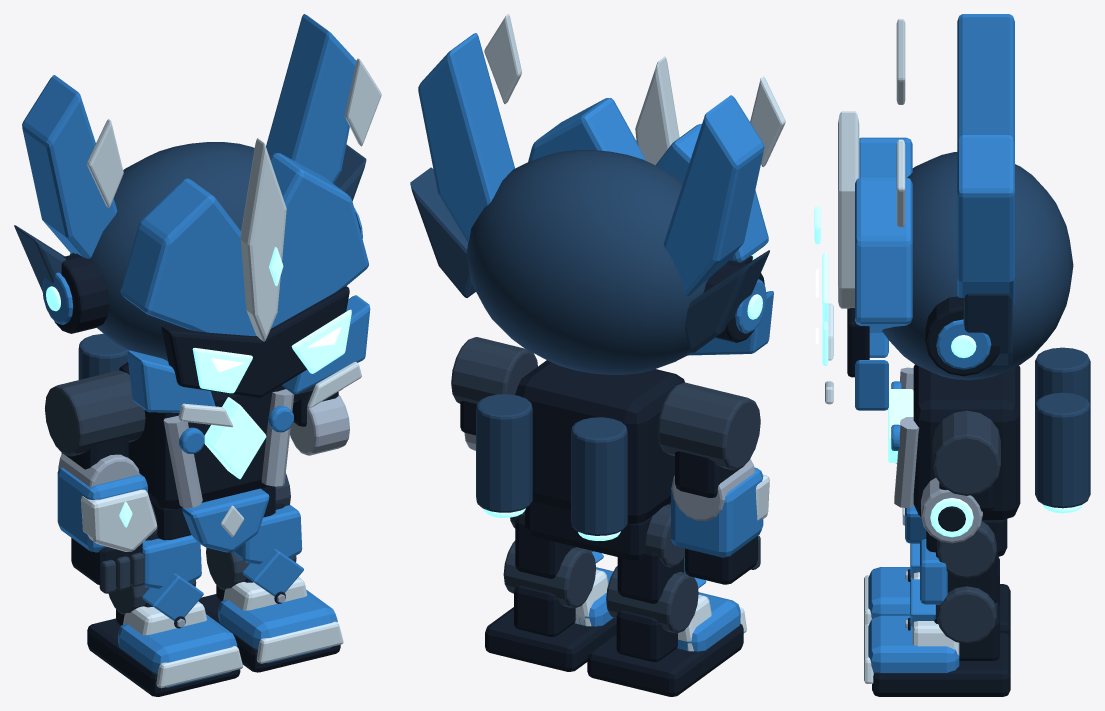
File: kai.glb
3 views of the same model, side by side, from view 1: azimuth 30°, elevation 25°; view 2: azimuth 150°, elevation 25°; view 3: azimuth 270°, elevation 25° (orthographic). The views are drawn at different scales.
Visible parts, largest first — view 1: HeadArmor, LeftArmArmor, LeftLegArmor, RightLegArmor, TorsoArmor, HipsArmor, RigArmor, Core, EyeRight, EyeLeft; view 2: HeadArmor, RigArmor, LeftArmArmor, LeftLegArmor, TorsoArmor, RightLegArmor, HipsArmor; view 3: HeadArmor, RightLegArmor, RigArmor, TorsoArmor, LeftLegArmor, HipsArmor, Core, EyeLeft.
Part boxes in pixels (x1,y1,x2,y2): HeadArmor: (14,14,381,427); LeftArmArmor: (45,370,157,593); LeftLegArmor: (87,500,243,696); RightLegArmor: (198,473,343,672); TorsoArmor: (119,362,294,508); HipsArmor: (151,486,275,552); RigArmor: (78,333,349,455); Core: (204,397,266,479); EyeRight: (291,309,351,373); EyeLeft: (192,348,252,393); HeadArmor: (410,14,785,374); RigArmor: (451,337,627,540); LeftArmArmor: (658,382,769,584); LeftLegArmor: (587,504,746,696); TorsoArmor: (515,360,684,524); RightLegArmor: (485,511,616,671); HipsArmor: (525,501,670,560); HeadArmor: (814,14,1073,410); RightLegArmor: (864,521,1010,696); RigArmor: (921,347,1090,543); TorsoArmor: (891,364,1020,519); LeftLegArmor: (864,544,1010,638); HipsArmor: (902,506,1007,556); Core: (888,389,913,462); EyeLeft: (822,251,828,322).
Size of the model in its own units: 1.79 by 3 by 1.3.
